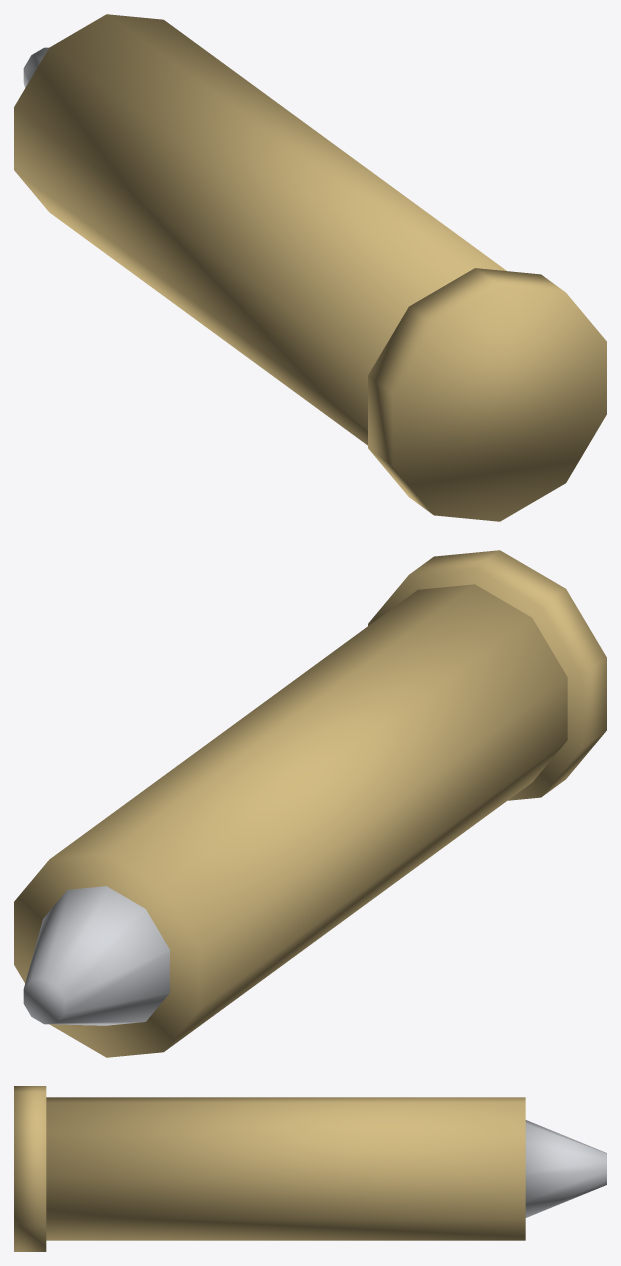
Rendered from round.glb.
The picture shows the model from 3 angles, top to bottom: view 1: azimuth 30°, elevation 25°; view 2: azimuth 150°, elevation 25°; view 3: azimuth 270°, elevation 25°; orthographic projection. The views are drawn at different scales.
Visible parts, largest first — view 1: Round; view 2: Round; view 3: Round.
Boxes of the visible parts, x1,y1,x2,y2 form: Round: (14, 14, 606, 521); Round: (14, 550, 606, 1057); Round: (14, 1086, 606, 1251).
Size of the model in its own units: 0.00989 by 0.0104 by 0.0365.
